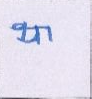aa_matra: (47, 27, 52, 41)
